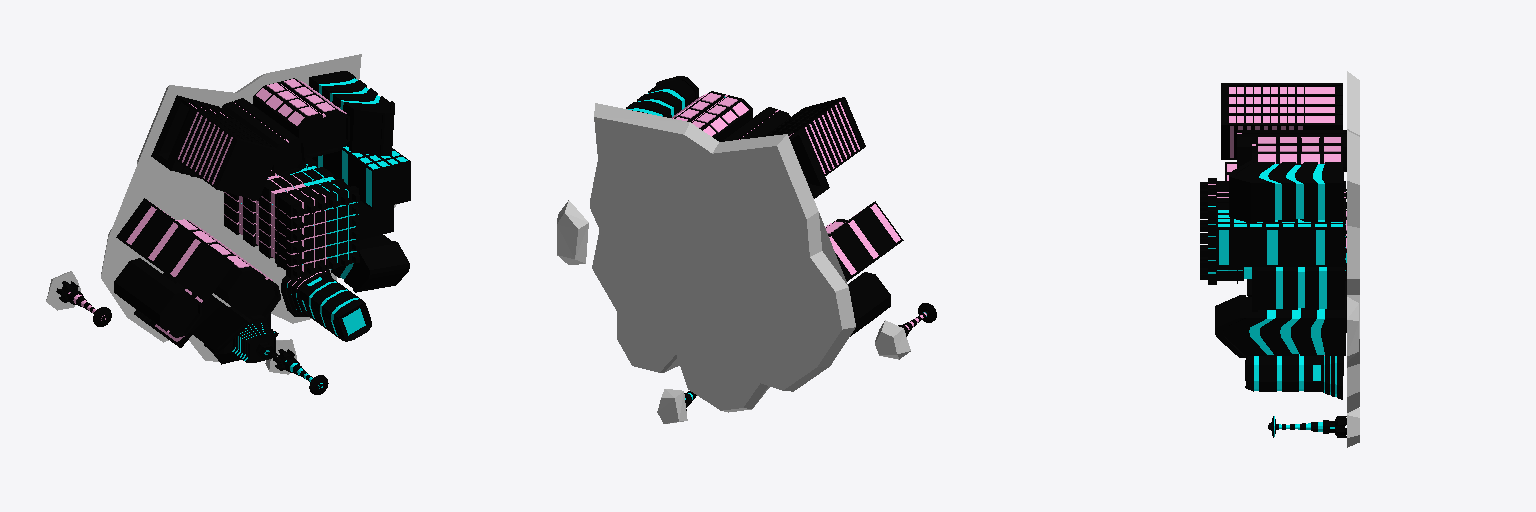
The model's file is ville1.obj.
3 renders of one model, left to right at view 1: azimuth 30°, elevation 25°; view 2: azimuth 150°, elevation 25°; view 3: azimuth 270°, elevation 25°, orthographic.
Visible parts, largest first — view 1: Cube, Plane; view 2: Plane, Cube; view 3: Cube, Plane.
Boxes of the visible parts, <box> form: Cube: <box>56,71,410,394</box>; Plane: <box>46,54,396,374</box>; Plane: <box>557,103,910,423</box>; Cube: <box>626,76,936,410</box>; Cube: <box>1200,83,1346,437</box>; Plane: <box>1347,71,1359,447</box>.
Bounding box in the file's own units: 183 × 158 × 71.87.